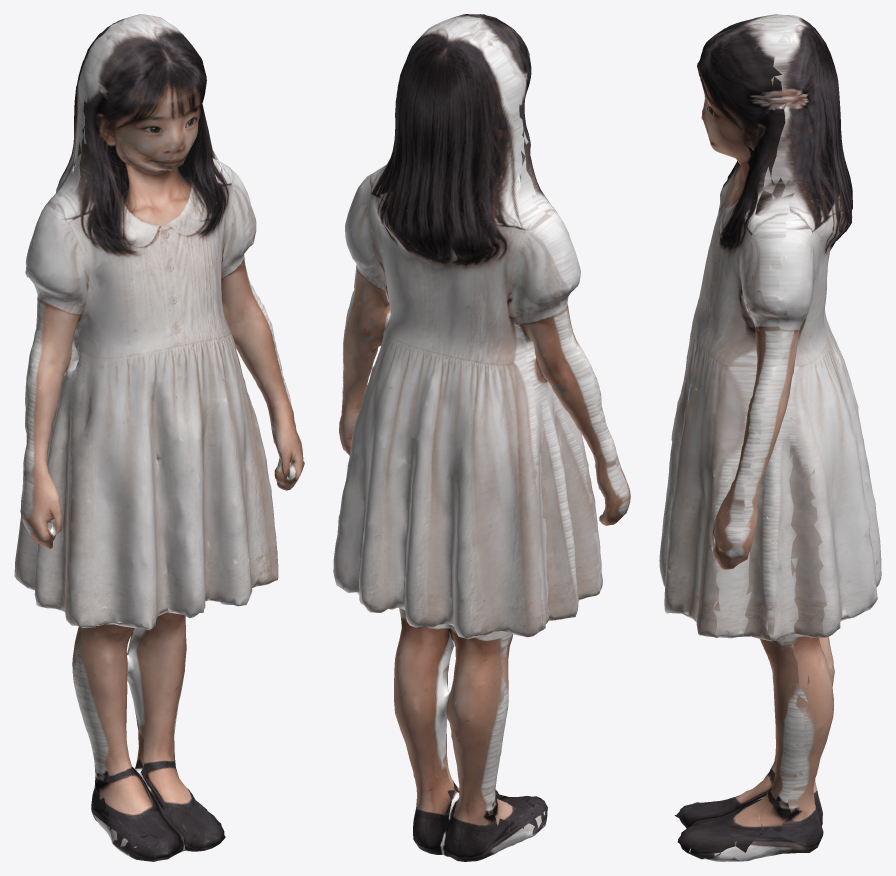
Rendered from girl.glb.
3 renders of one model, left to right at view 1: azimuth 30°, elevation 25°; view 2: azimuth 150°, elevation 25°; view 3: azimuth 270°, elevation 25°, orthographic. The views are drawn at different scales.
Visible parts, largest first — view 1: geometry_0; view 2: geometry_0; view 3: geometry_0.
Boxes of the visible parts, x1,y1,x2,y2 form: geometry_0: (14, 14, 304, 861); geometry_0: (333, 14, 630, 861); geometry_0: (659, 14, 881, 861).
Size of the model in its own units: 0.7115 by 1.97 by 0.483.
1 material, 1 textured.
